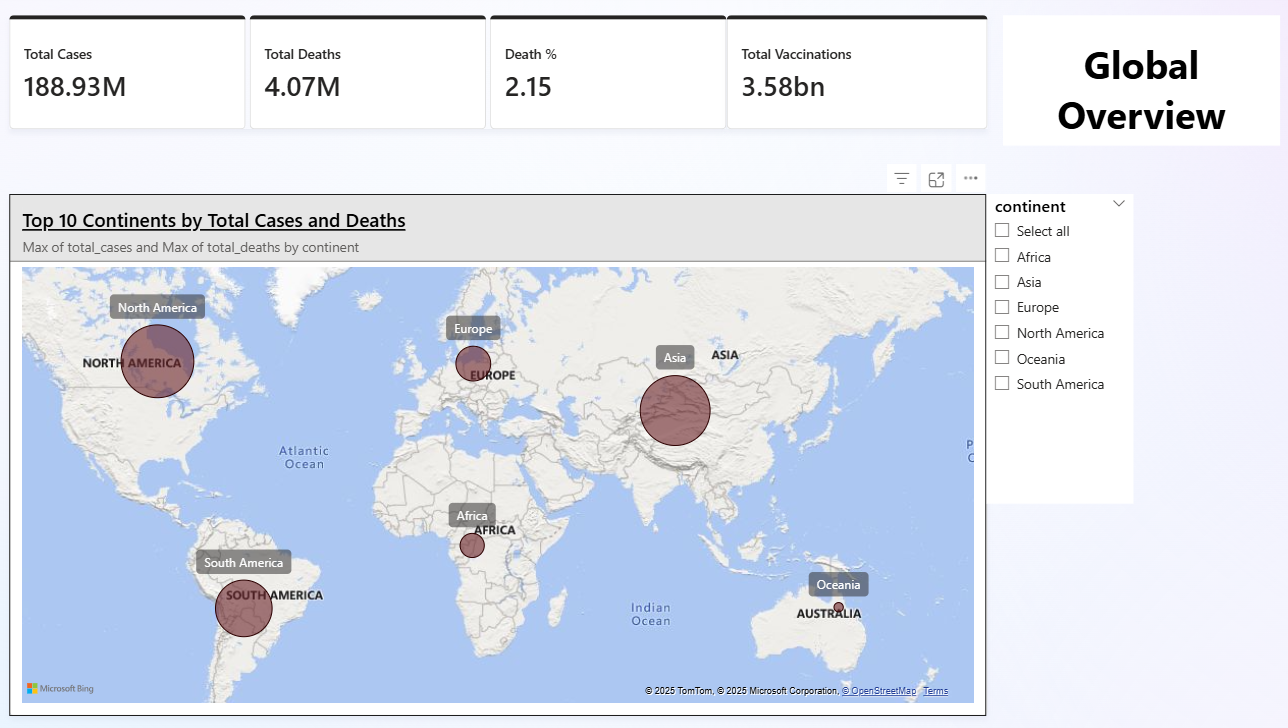

The dashboard page shown, as its layout file describes it:
{"tool":"powerbi","page":{"name":"Global Overview","canvas":[1280,720],"ordinal":0},"visuals":[{"type":"cardVisual","fields":{"Data":["Max(covid_table.total_cases)","Max(covid_table.total_deaths)","covid_table.death_percent"]},"box":[16,16,704,112],"z":0},{"type":"cardVisual","fields":{"Data":["Max(covid_table.total_vaccinations)"]},"box":[720,16,256,112],"z":1000},{"type":"textbox","box":[992,16,272,128],"z":2000},{"type":"map","title":"Top 10 Continents by Total Cases and Deaths","fields":{"Size":["Max(covid_table.total_cases)"],"Category":["covid_table.continent"]},"box":[16,192,960,512],"z":3000},{"type":"slicer","fields":{"Values":["covid_table.continent"]},"box":[976,192,144,304],"z":4000}]}

Visuals, with their boxes in screenshot pixels (x1, y1, x2, y2), scaled from the page's 1280x720 canvas onto the 1288x728 screenshot:
cardVisual - Max(covid_table.total_cases) x Max(covid_table.total_deaths): <box>16,16,725,129</box>
cardVisual - Max(covid_table.total_vaccinations): <box>725,16,982,129</box>
textbox: <box>998,16,1272,146</box>
"Top 10 Continents by Total Cases and Deaths" map: <box>16,194,982,712</box>
slicer - covid_table.continent: <box>982,194,1127,502</box>
